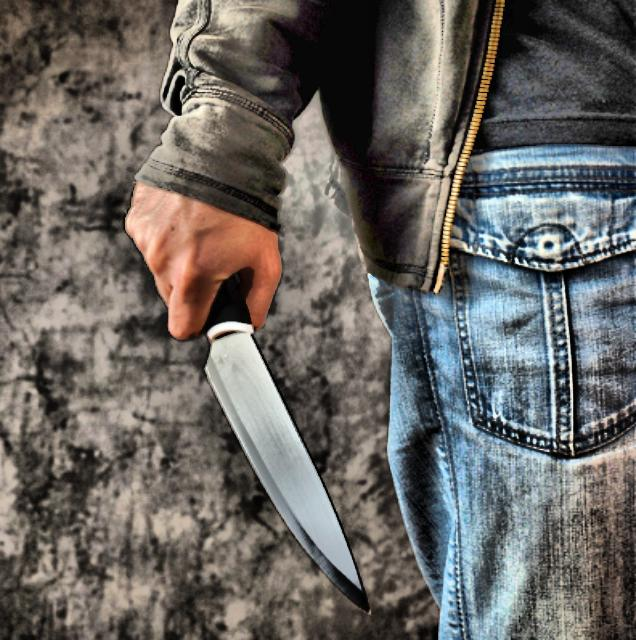knife: (124, 240, 376, 620)
